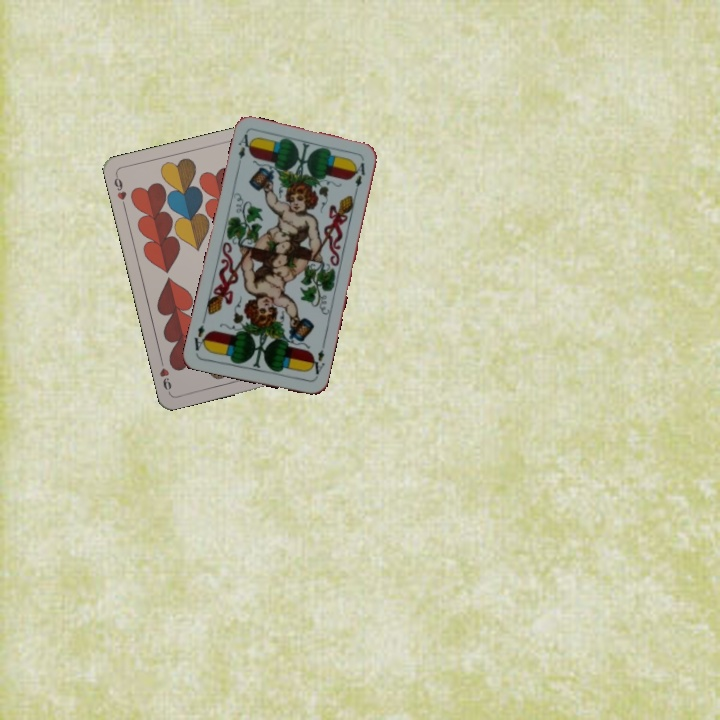EA: (234, 130, 255, 170), (306, 346, 328, 381)
H9: (110, 171, 129, 211)
